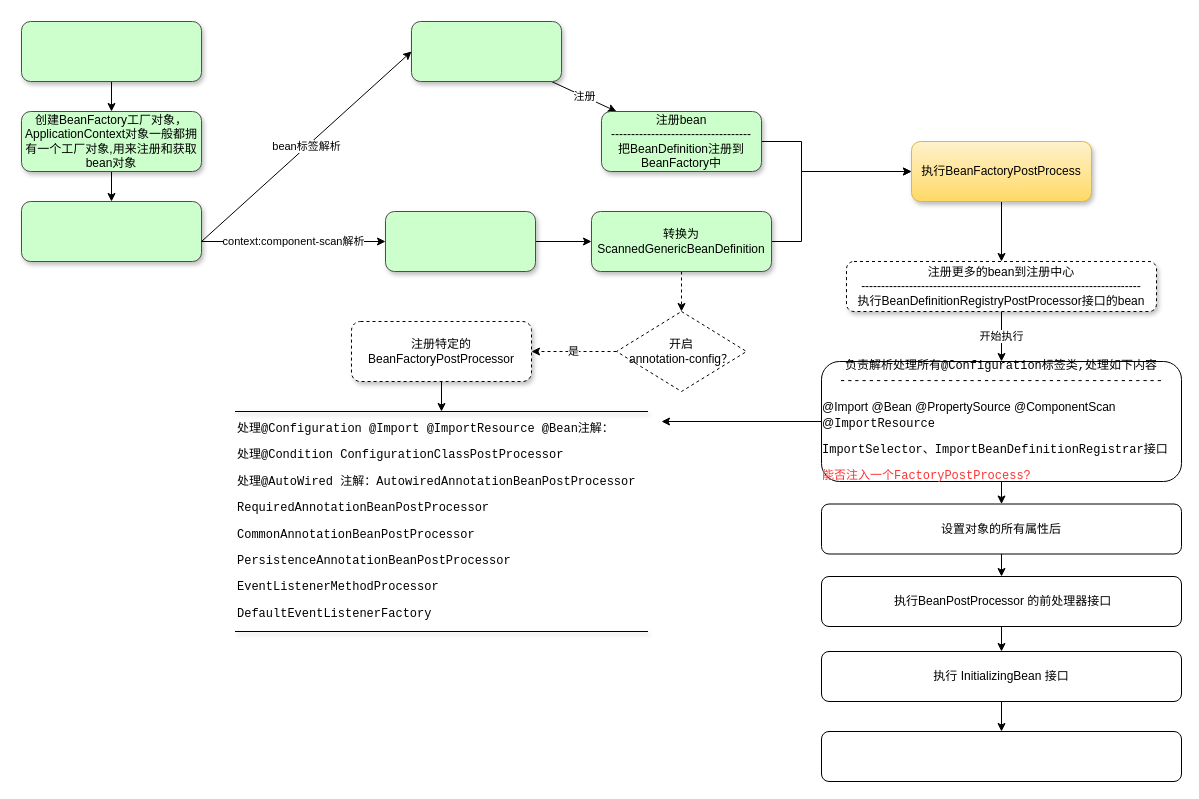
Some shapes in this 1199 by 799 pixel diagram are drawn without their labels. The shapes that lost their labels are listed below. From the top down, each one's centre as x and y in pixels, then its label:
At point (112, 52): "实例对象创建应用程序执行环境ApplicationContext".
At point (487, 52): "解析Bean标签属性， 转换为GenericBeanDefinition".
At point (112, 232): "spring xml 文件解析 -------------------------------------- 解析spring xml 配置文件".
At point (461, 242): "扫描带有特定注解的类，默认是@Compont 不处理嵌套的类如有@Import注解".
At point (1001, 756): "执行BeanPostProcessor 的后处理器接口".
